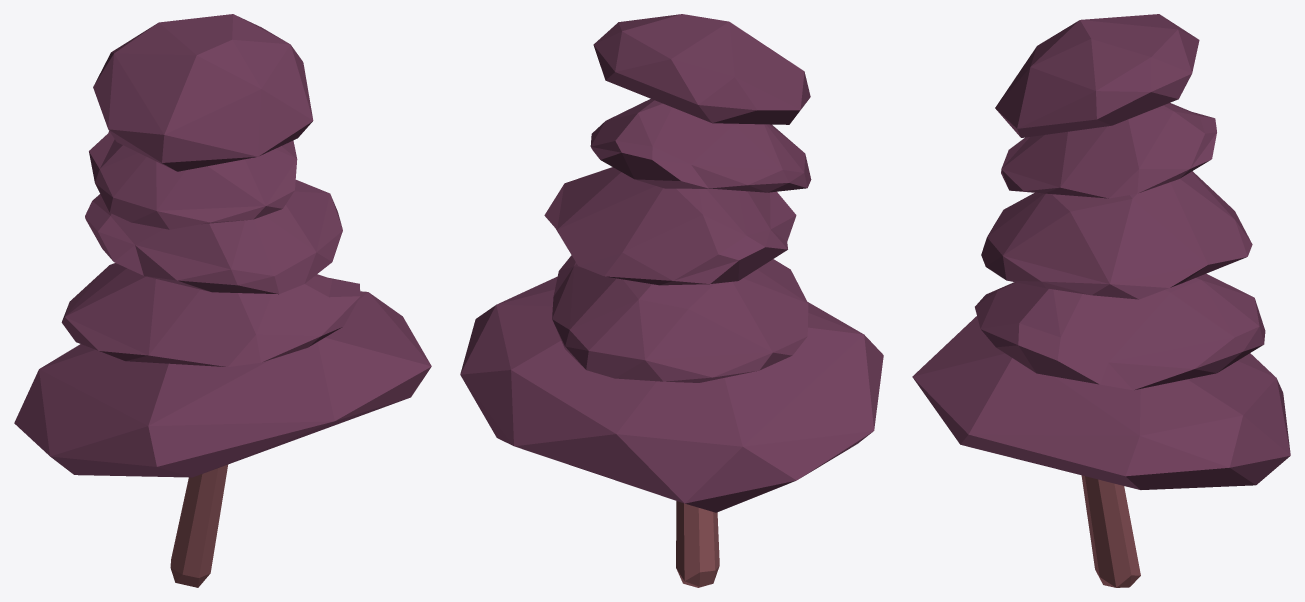
File: Treepoly4.fbx
3 renders of one model, left to right at view 1: azimuth 30°, elevation 25°; view 2: azimuth 150°, elevation 25°; view 3: azimuth 270°, elevation 25°, orthographic. The views are drawn at different scales.
Visible parts, largest first — view 1: Leaves.004, Trunk.004; view 2: Leaves.004, Trunk.004; view 3: Leaves.004, Trunk.004.
Boxes of the visible parts, box(x1,y1,x2,y2) form: Leaves.004: box(14, 14, 431, 477); Trunk.004: box(170, 464, 228, 587); Leaves.004: box(460, 14, 883, 512); Trunk.004: box(676, 501, 719, 587); Leaves.004: box(912, 14, 1290, 489); Trunk.004: box(1081, 475, 1140, 587).
Bounding box in the file's own units: 555 × 780 × 475.
